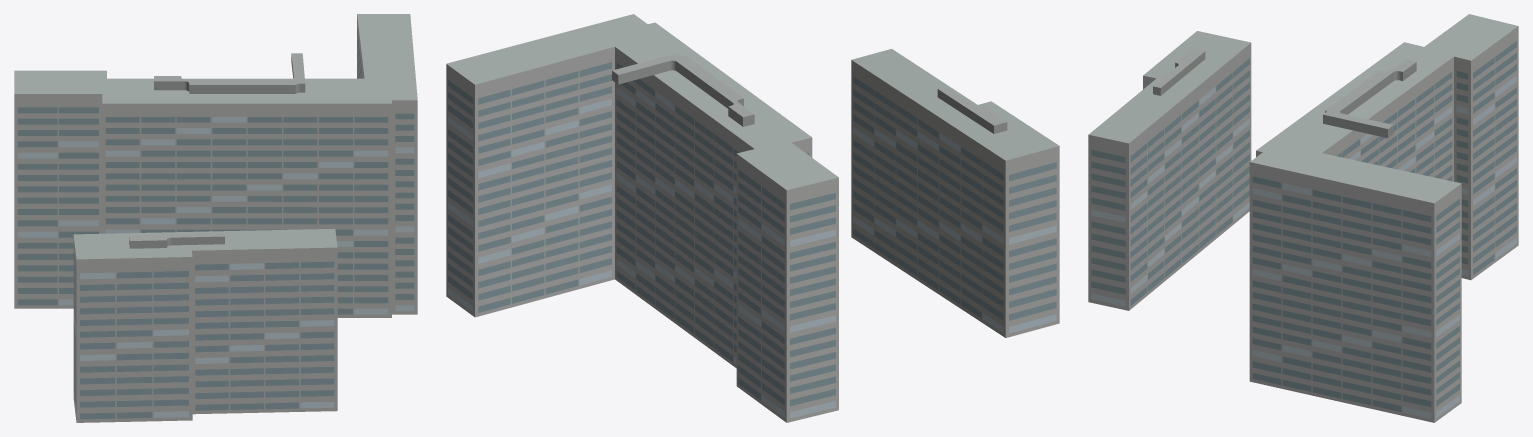
Rendered from apt-a13813006.glb.
3 views of the same model, side by side, from view 1: azimuth 30°, elevation 25°; view 2: azimuth 150°, elevation 25°; view 3: azimuth 270°, elevation 25° (orthographic). The views are drawn at different scales.
Visible parts, largest first — view 1: apt-a13813006; view 2: apt-a13813006; view 3: apt-a13813006.
Part boxes in pixels (x1,y1,x2,y2): apt-a13813006: (14, 14, 417, 422); apt-a13813006: (446, 14, 1059, 422); apt-a13813006: (1088, 14, 1518, 422).
Size of the model in its own units: 126 by 60 by 102.
